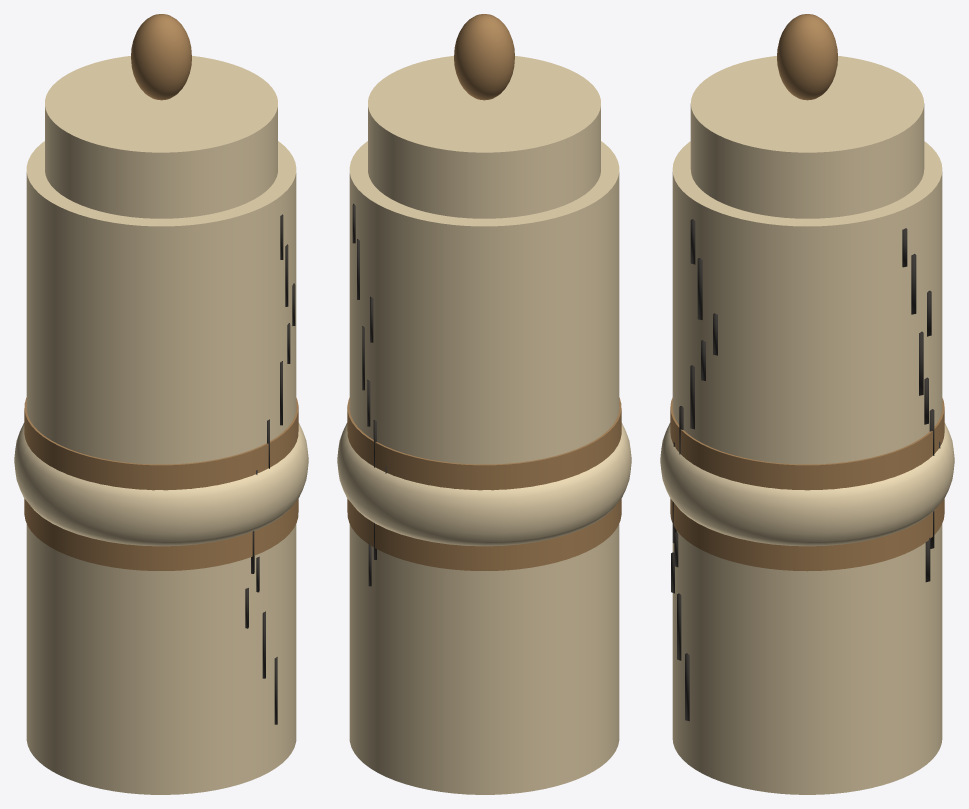
Rendered from cookie_jar_dmg.glb.
3 renders of one model, left to right at view 1: azimuth 30°, elevation 25°; view 2: azimuth 150°, elevation 25°; view 3: azimuth 270°, elevation 25°, orthographic.
Visible parts, largest first — view 1: Cylinder.003, Cylinder.005, Torus.001, Cylinder.004, Sphere.001; view 2: Cylinder.003, Cylinder.005, Torus.001, Cylinder.004, Sphere.001; view 3: Cylinder.003, Cylinder.005, Torus.001, Cylinder.004, Sphere.001.
Part boxes in pixels (left/top/right/bottom): Cylinder.003: left=26, top=141, right=296, bottom=794; Cylinder.005: left=45, top=56, right=277, bottom=218; Torus.001: left=14, top=423, right=308, bottom=546; Cylinder.004: left=24, top=397, right=298, bottom=570; Sphere.001: left=131, top=14, right=191, bottom=100; Cylinder.003: left=349, top=141, right=619, bottom=794; Cylinder.005: left=368, top=56, right=600, bottom=218; Torus.001: left=337, top=423, right=631, bottom=546; Cylinder.004: left=347, top=397, right=621, bottom=570; Sphere.001: left=454, top=14, right=514, bottom=100; Cylinder.003: left=672, top=141, right=942, bottom=794; Cylinder.005: left=690, top=56, right=924, bottom=218; Torus.001: left=660, top=423, right=954, bottom=546; Cylinder.004: left=670, top=398, right=944, bottom=571; Sphere.001: left=777, top=14, right=837, bottom=100.
Bounding box in the file's own units: 4.04 × 10.92 × 4.04.
